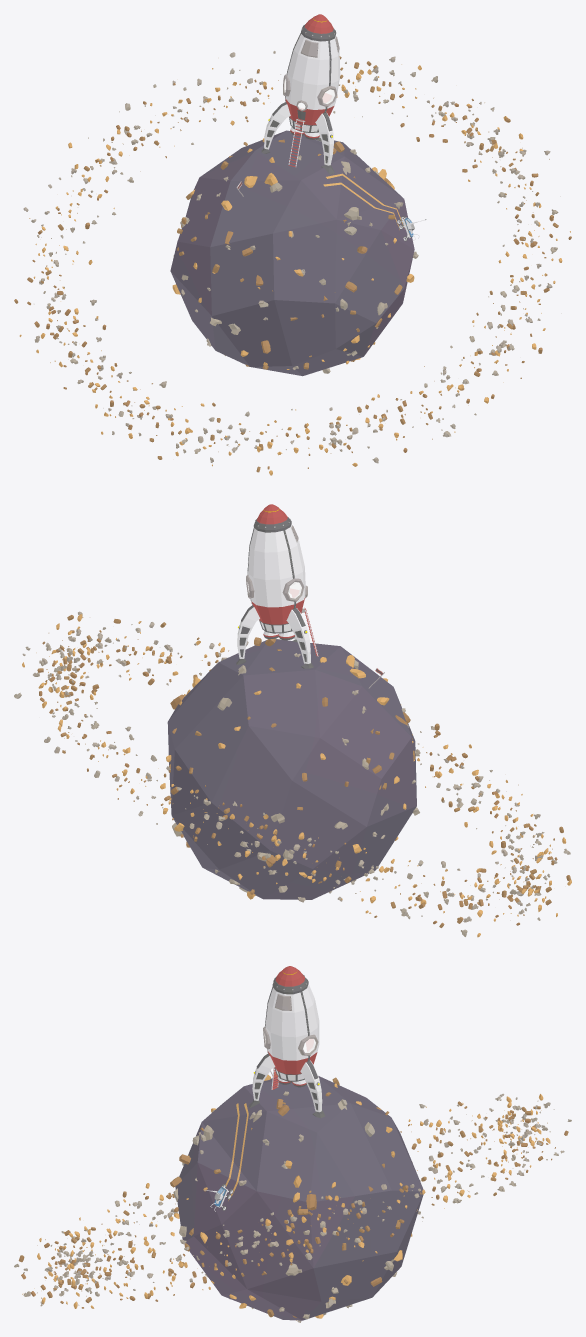
3 renders of one model, top to bottom at view 1: azimuth 30°, elevation 25°; view 2: azimuth 150°, elevation 25°; view 3: azimuth 270°, elevation 25°, orthographic. The views are drawn at different scales.
Parts seen in each view (by area): view 1: planet.002, flag; view 2: planet.002, flag; view 3: planet.002, flag.
Part boxes in pixels (left/top/right/bottom): planet.002: left=14, top=14, right=570, bottom=475; flag: left=15, top=51, right=571, bottom=475; planet.002: left=14, top=504, right=571, bottom=927; flag: left=22, top=614, right=571, bottom=937; planet.002: left=18, top=966, right=571, bottom=1322; flag: left=14, top=1094, right=570, bottom=1308.
Size of the model in its own units: 30.54 by 22.9 by 31.63.
Materials: 6 (2 with a texture image).
